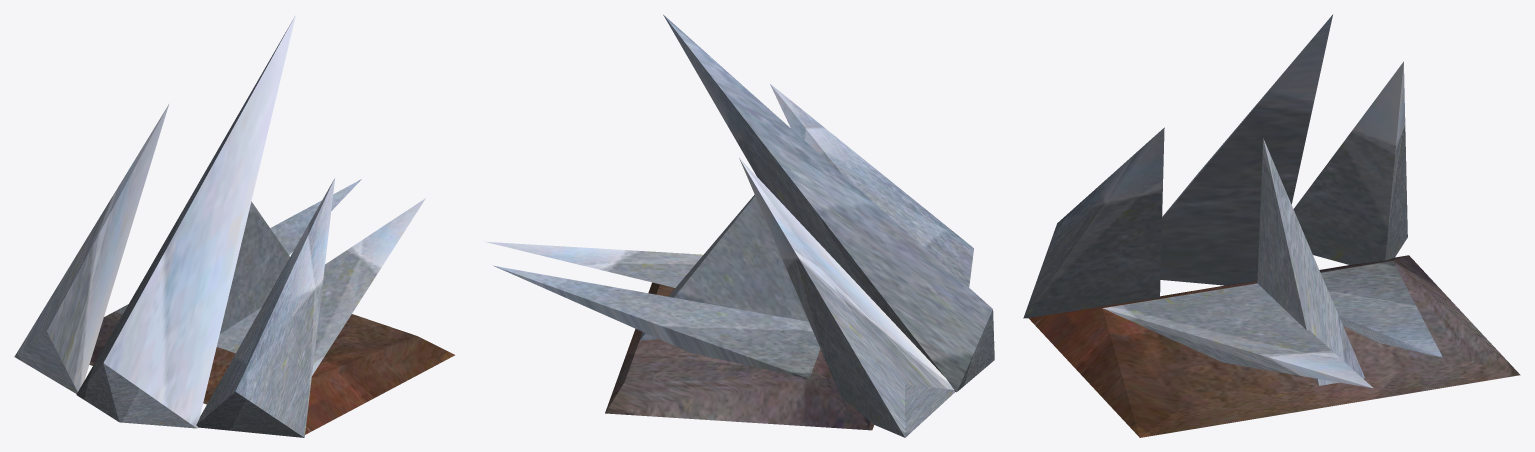
File: frn_all_decorative_sm_s2.fbx
3 views of the same model, side by side, from view 1: azimuth 30°, elevation 25°; view 2: azimuth 150°, elevation 25°; view 3: azimuth 270°, elevation 25° (orthographic). The views are drawn at different scales.
Parts seen in each view (by area): view 1: mesh_node; view 2: mesh_node; view 3: mesh_node.
Part boxes in pixels (bbox=[...]): mesh_node: bbox=[14, 15, 454, 437]; mesh_node: bbox=[485, 14, 994, 437]; mesh_node: bbox=[1023, 14, 1520, 437].
Bounding box in the file's own units: 0.7071 × 0.5152 × 0.6192.
